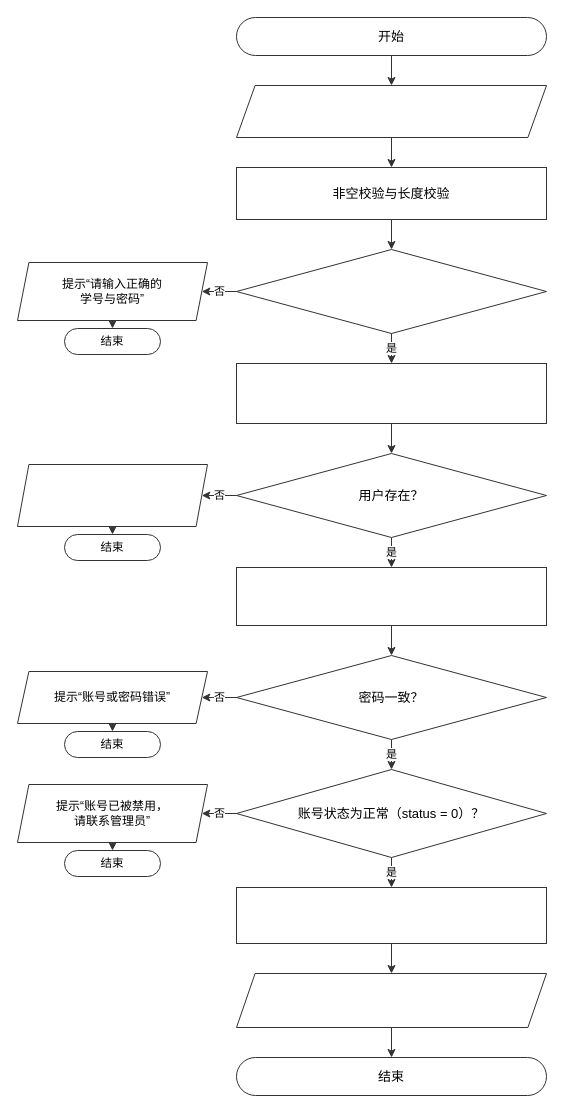
The diagram is 564 pixels wide and 1113 high, and some of its shapes have lost their labels. The shapes that lost their labels are listed below. From the top down, each one's box as (x1, y1, x2, y2) in pixels, then its label:
(236, 84, 546, 138): 输入学号与密码
(236, 248, 546, 334): 格式合法？
(236, 362, 546, 424): 查询用户 selectByStudentNo(studentNo)
(16, 464, 208, 526): 提示“账号或密码 错误”（不区分具体原因）
(236, 566, 546, 626): 校验密码 BCrypt.matches(明文, password)
(236, 886, 546, 944): 生成 JWT（uid、role，有效期 12 小时）
(236, 972, 546, 1028): 返回 token 与用户基本信息
